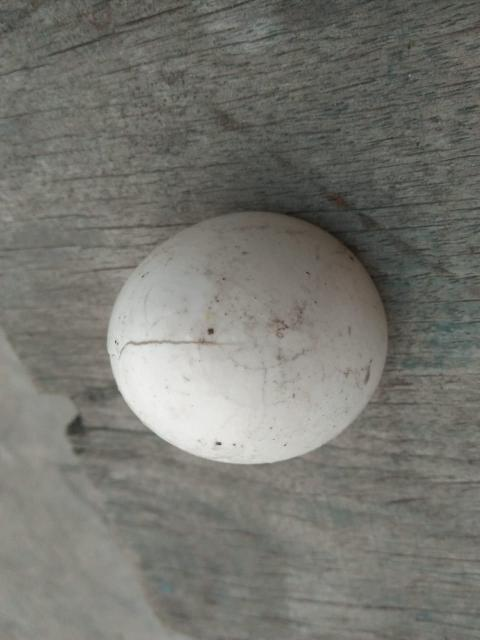Roto: (106, 208, 389, 466)
